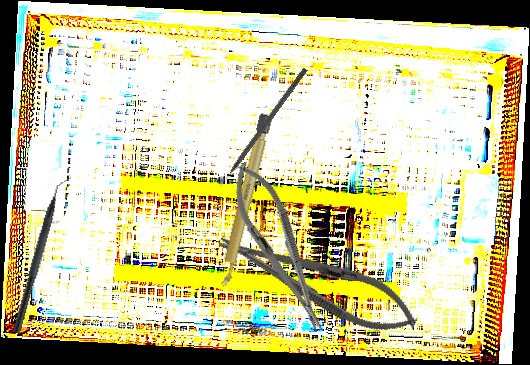Chopper: (12, 173, 74, 337)
Hook Surgical: (216, 66, 308, 189)
Needle Holder: (210, 216, 426, 347), (219, 154, 339, 341)
Scalpel Handle: (215, 111, 274, 291)
